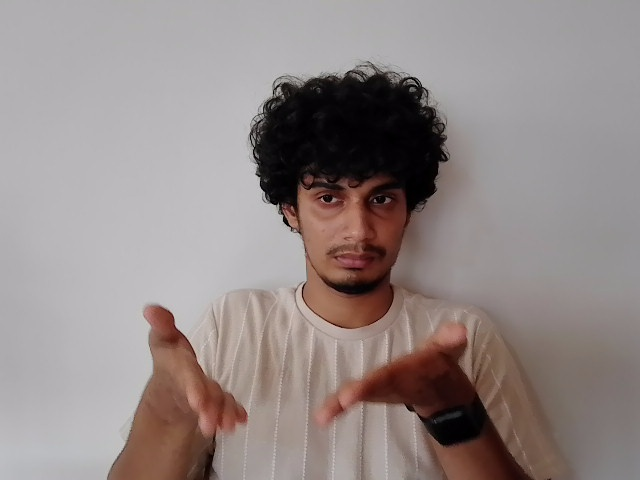here: (135, 303, 487, 455)
